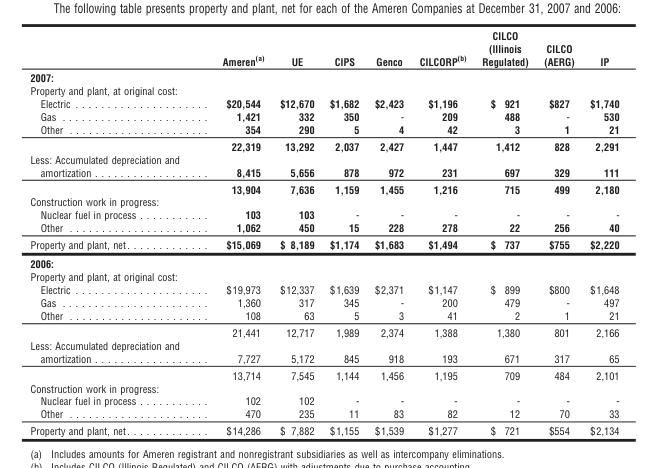table: (29, 28, 618, 436)
table column: (29, 28, 200, 436), (200, 28, 271, 436), (411, 28, 473, 436), (473, 28, 535, 436), (271, 28, 321, 436), (535, 28, 581, 436), (321, 28, 366, 436), (366, 28, 411, 436), (581, 28, 618, 436)
table column header: (29, 28, 618, 69)
table projected row header: (29, 253, 618, 270), (29, 69, 618, 84), (29, 195, 618, 208), (29, 270, 618, 283), (29, 381, 618, 394), (29, 84, 618, 96)
table row: (29, 28, 618, 69), (29, 152, 618, 180), (29, 338, 618, 366), (29, 235, 618, 253), (29, 253, 618, 270), (29, 69, 618, 84), (29, 122, 618, 137), (29, 137, 618, 152), (29, 180, 618, 195), (29, 220, 618, 235), (29, 308, 618, 323), (29, 323, 618, 338), (29, 366, 618, 381), (29, 421, 618, 436), (29, 407, 618, 421), (29, 96, 618, 109), (29, 109, 618, 122), (29, 195, 618, 208), (29, 270, 618, 283), (29, 295, 618, 308), (29, 381, 618, 394), (29, 394, 618, 407), (29, 84, 618, 96), (29, 208, 618, 220), (29, 283, 618, 295)
